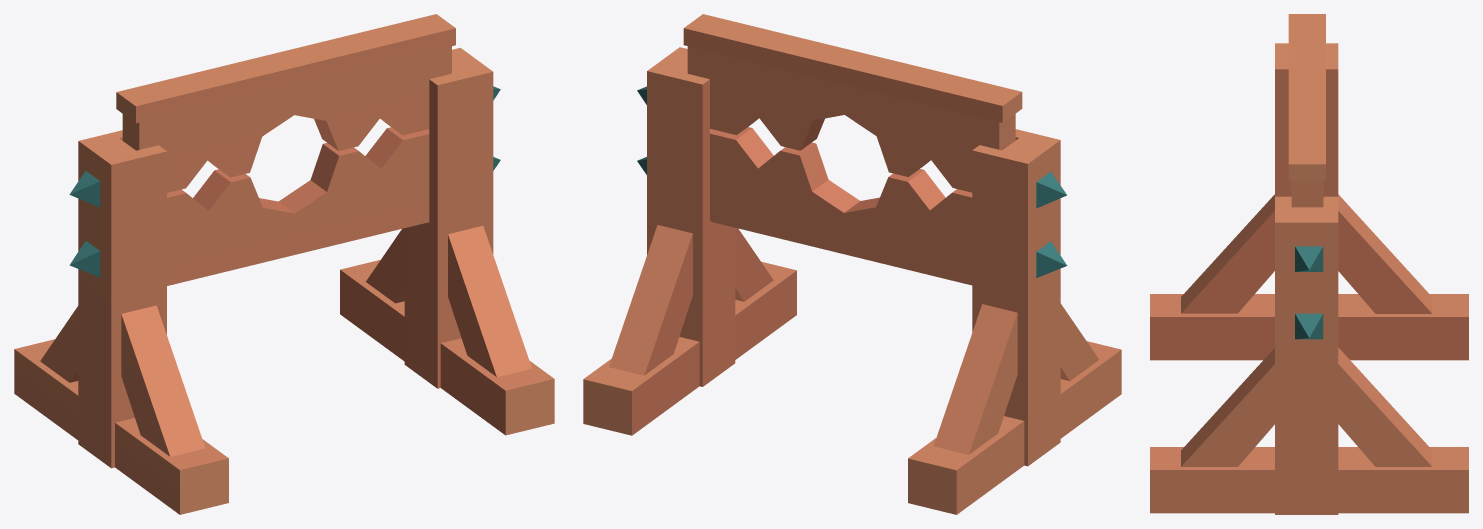
The model's file is torture13.fbx.
3 renders of one model, left to right at view 1: azimuth 30°, elevation 25°; view 2: azimuth 150°, elevation 25°; view 3: azimuth 270°, elevation 25°, orthographic. The views are drawn at different scales.
Parts seen in each view (by area): view 1: torture13, handcuffs3; view 2: torture13, handcuffs3; view 3: torture13, handcuffs3.
Boxes of the visible parts, box(x1,y1,x2,y2) form: torture13: box(14, 47, 554, 514); handcuffs3: box(116, 14, 455, 192); torture13: box(583, 47, 1121, 514); handcuffs3: box(683, 14, 1022, 192); torture13: box(1150, 43, 1468, 514); handcuffs3: box(1288, 14, 1325, 207).
Size of the model in its own units: 182 by 140 by 121.
